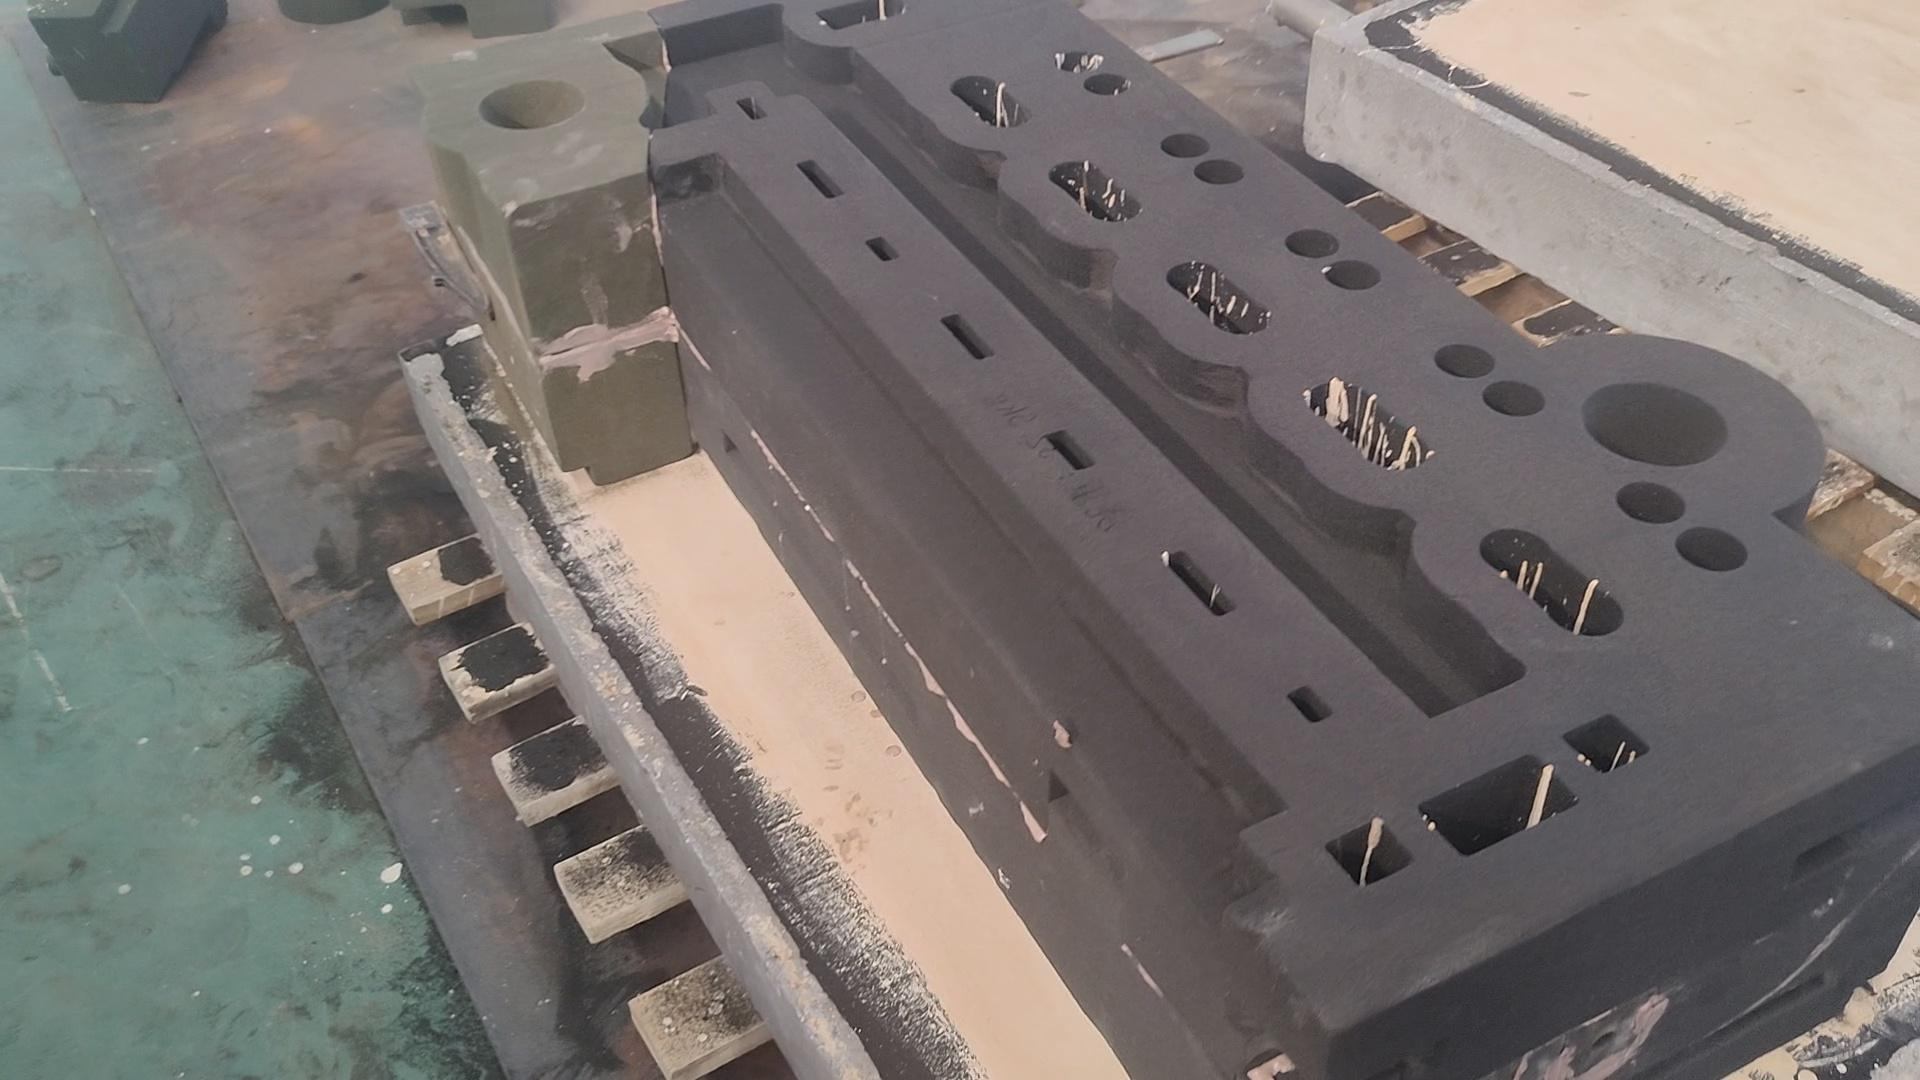pouring hole: (1581, 381, 1730, 468), (473, 78, 587, 131)
